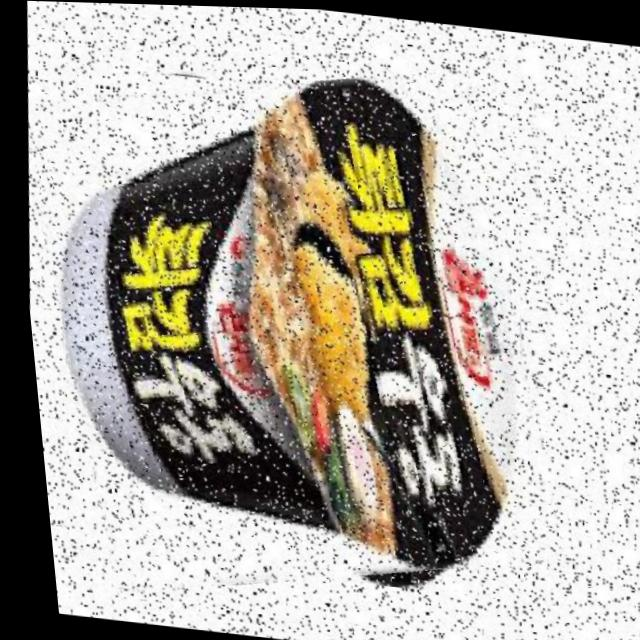Miscellaneous: (3, 37, 578, 621)
